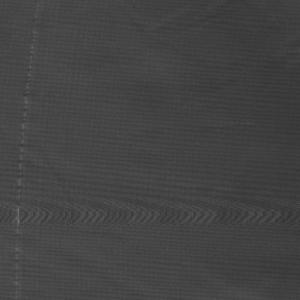Wrinkle: (105, 1, 300, 109)
